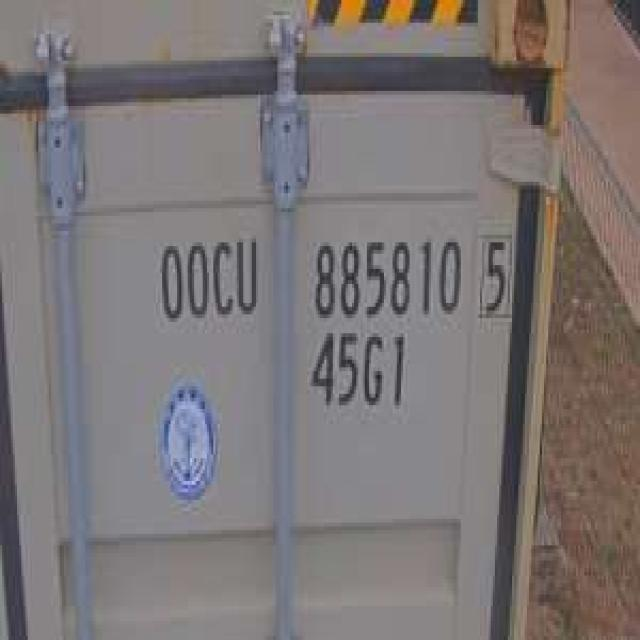dv: (474, 220, 516, 322)
owner: (152, 223, 262, 329)
serial: (305, 220, 465, 326)
size: (303, 326, 412, 420)
